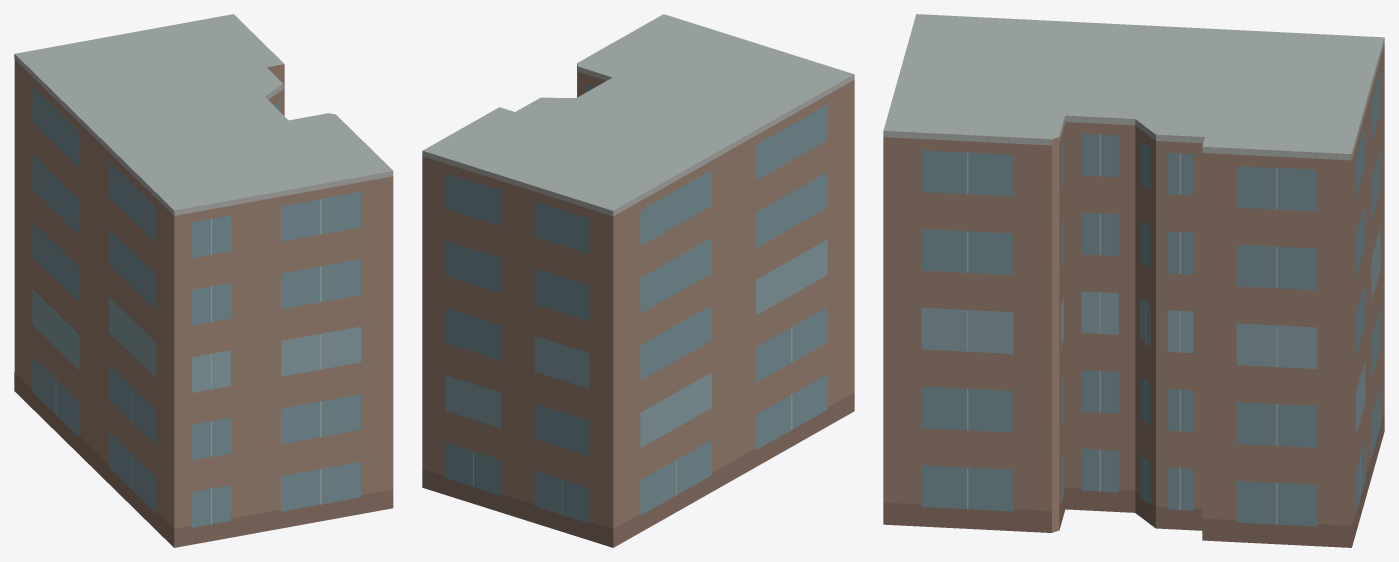
File: survey-upis-32639198.glb
3 renders of one model, left to right at view 1: azimuth 30°, elevation 25°; view 2: azimuth 150°, elevation 25°; view 3: azimuth 270°, elevation 25°, orthographic. The views are drawn at different scales.
Visible parts, largest first — view 1: survey-upis-32639198.tmp; view 2: survey-upis-32639198.tmp; view 3: survey-upis-32639198.tmp.
Boxes of the visible parts, box(x1,y1,x2,y2) form: survey-upis-32639198.tmp: box(14, 14, 393, 547); survey-upis-32639198.tmp: box(422, 14, 854, 547); survey-upis-32639198.tmp: box(883, 14, 1384, 547).
Size of the model in its own units: 11.61 by 15.2 by 17.54.
